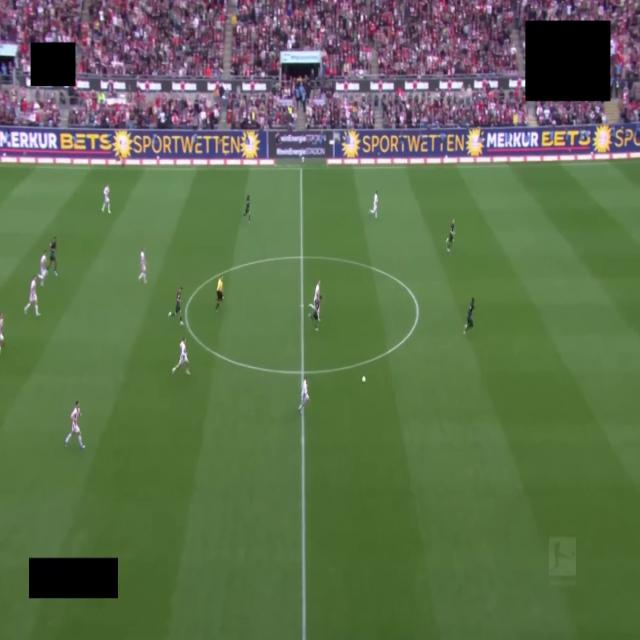ball: (362, 376, 366, 383)
player: (65, 401, 84, 448), (172, 339, 189, 375), (24, 276, 39, 316), (168, 287, 183, 325), (463, 297, 474, 334), (47, 237, 57, 275), (299, 379, 308, 410), (38, 252, 46, 286), (138, 249, 146, 283), (309, 301, 319, 328), (447, 220, 455, 252), (101, 185, 110, 213), (369, 190, 378, 218), (244, 195, 250, 223), (0, 313, 4, 351), (314, 281, 320, 303)
referee: (216, 276, 223, 311)
